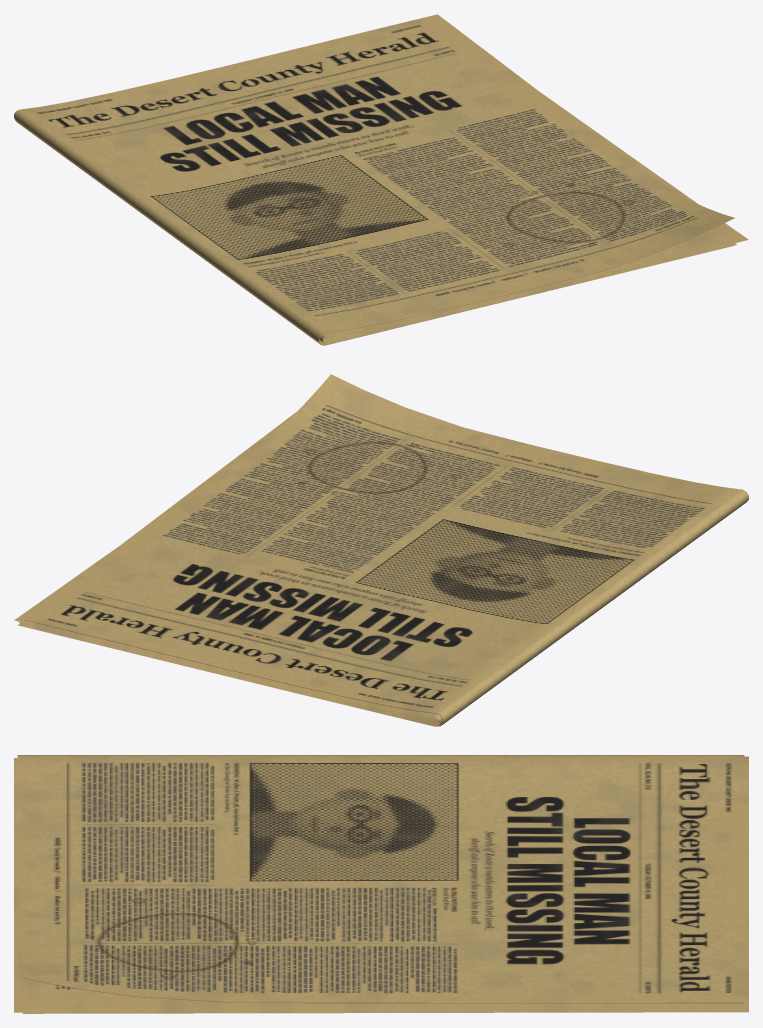
File: SM_Motel_Newspaper.glb
3 views of the same model, one above another, from view 1: azimuth 30°, elevation 25°; view 2: azimuth 150°, elevation 25°; view 3: azimuth 270°, elevation 25° (orthographic). The views are drawn at different scales.
Parts seen in each view (by area): view 1: SM_Motel_Newspaper; view 2: SM_Motel_Newspaper; view 3: SM_Motel_Newspaper.
Boxes of the visible parts, x1,y1,x2,y2 form: SM_Motel_Newspaper: (14, 14, 748, 345); SM_Motel_Newspaper: (14, 374, 748, 726); SM_Motel_Newspaper: (14, 755, 748, 1013).
Size of what is drawn, in the model's own units: 0.3088 by 0.0192 by 0.3845.
2 materials, 2 textured.
